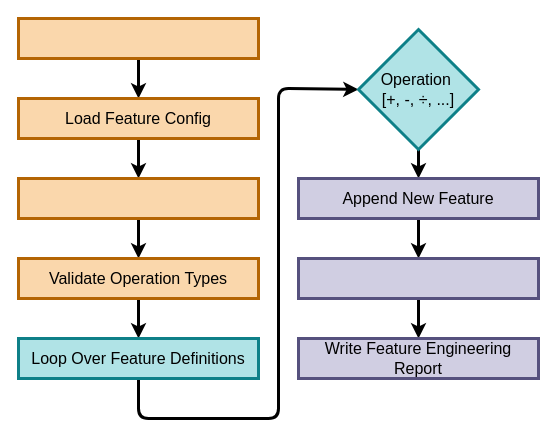
The diagram is 557 pixels wide and 445 high, and some of its shapes have lost their labels. The shapes that lost their labels are listed below. From the top down, each one's box as (x1, y1, x2, y2) in pixels, then its label:
(16, 16, 260, 60): Load Preprocessed CSV
(16, 176, 260, 220): Parse Feature Definitions
(296, 256, 540, 300): Write P1M_engineered.csv
